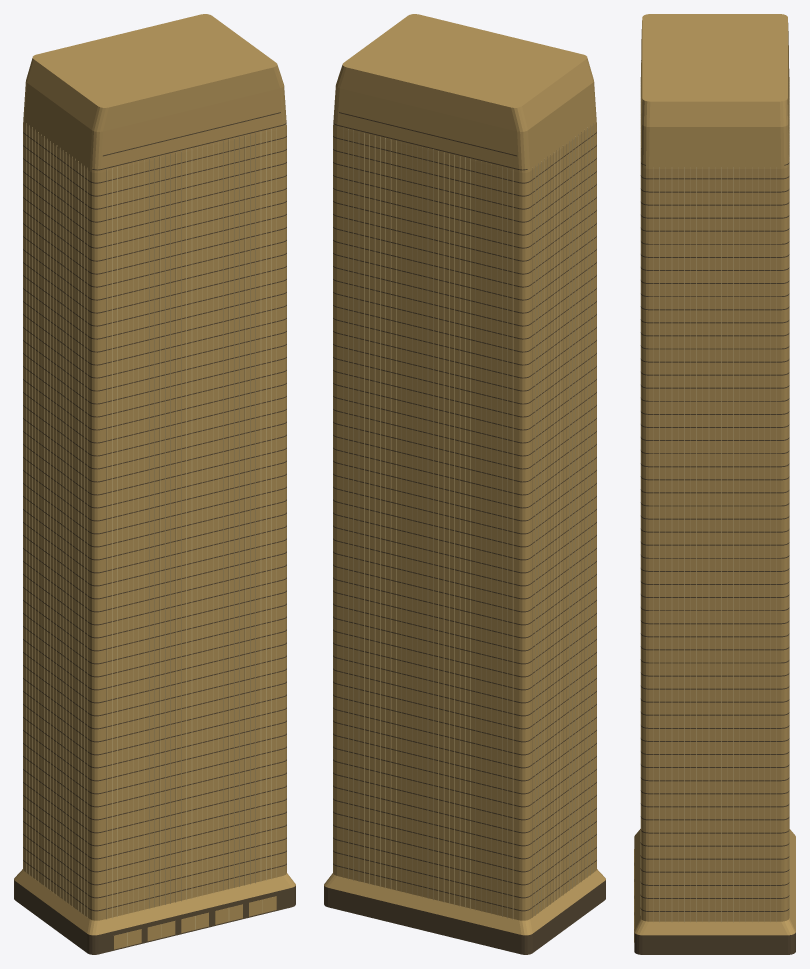
The model's file is sixtythree.glb.
3 renders of one model, left to right at view 1: azimuth 30°, elevation 25°; view 2: azimuth 150°, elevation 25°; view 3: azimuth 270°, elevation 25°, orthographic.
Visible parts, largest first — view 1: sixtythree_root_63_Gold_Bronze_Glazing, sixtythree_root_63_Champagne_Metal, sixtythree_root_63_Dark_Bronze_Mullions; view 2: sixtythree_root_63_Gold_Bronze_Glazing, sixtythree_root_63_Champagne_Metal, sixtythree_root_63_Dark_Bronze_Mullions; view 3: sixtythree_root_63_Gold_Bronze_Glazing, sixtythree_root_63_Champagne_Metal, sixtythree_root_63_Dark_Bronze_Mullions.
Boxes of the visible parts, x1=… form: sixtythree_root_63_Gold_Bronze_Glazing: x1=14, y1=14, x2=295, y2=949; sixtythree_root_63_Champagne_Metal: x1=26, y1=123, x2=276, y2=946; sixtythree_root_63_Dark_Bronze_Mullions: x1=14, y1=112, x2=295, y2=954; sixtythree_root_63_Gold_Bronze_Glazing: x1=324, y1=14, x2=605, y2=935; sixtythree_root_63_Champagne_Metal: x1=343, y1=123, x2=593, y2=919; sixtythree_root_63_Dark_Bronze_Mullions: x1=324, y1=112, x2=605, y2=954; sixtythree_root_63_Gold_Bronze_Glazing: x1=634, y1=14, x2=795, y2=942; sixtythree_root_63_Champagne_Metal: x1=640, y1=77, x2=789, y2=922; sixtythree_root_63_Dark_Bronze_Mullions: x1=634, y1=60, x2=795, y2=954.
Size of the model in its own units: 64.5 by 250 by 43.3.
